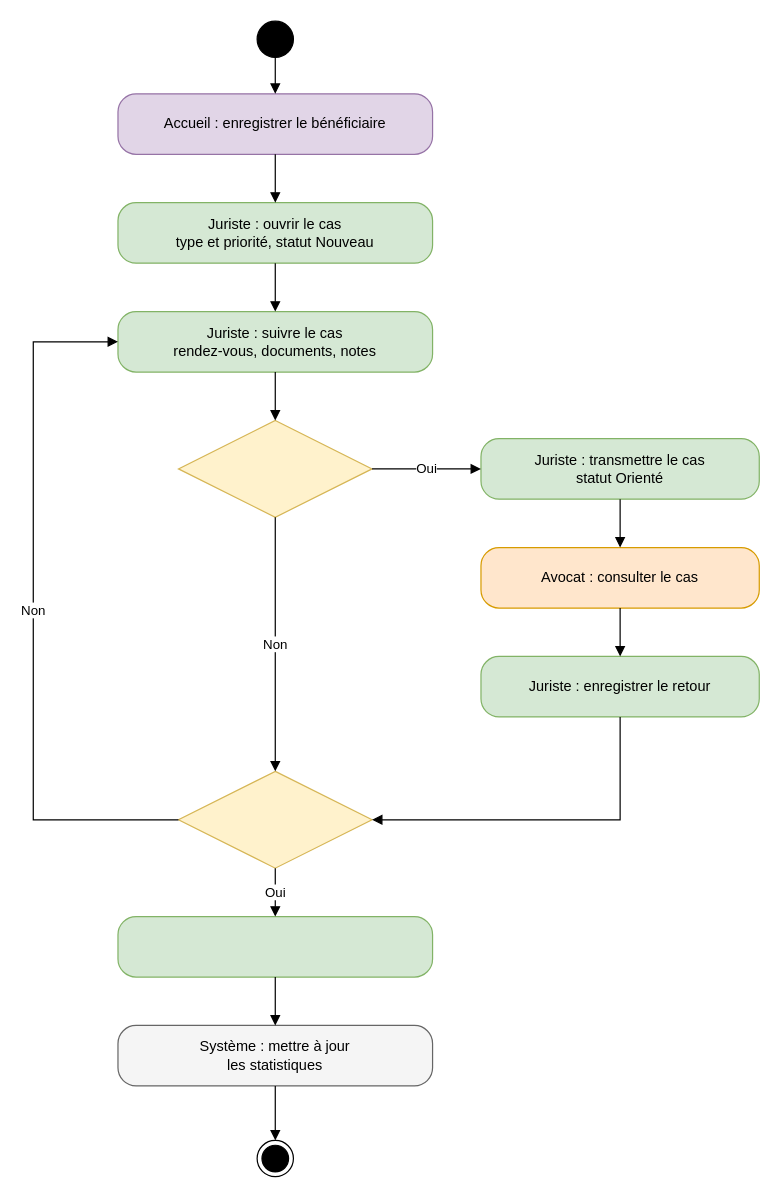
Some shapes in this 780 by 1198 pixel diagram are drawn without their labels. Here are the shapes that lost their labels. From the top down, the centre of each, then its label:
At point 274,468: "Orientation nécessaire ?".
At point 274,819: "Cas résolu ?".
At point 275,946: "Juriste : passer à Résolu puis Clôturé".
